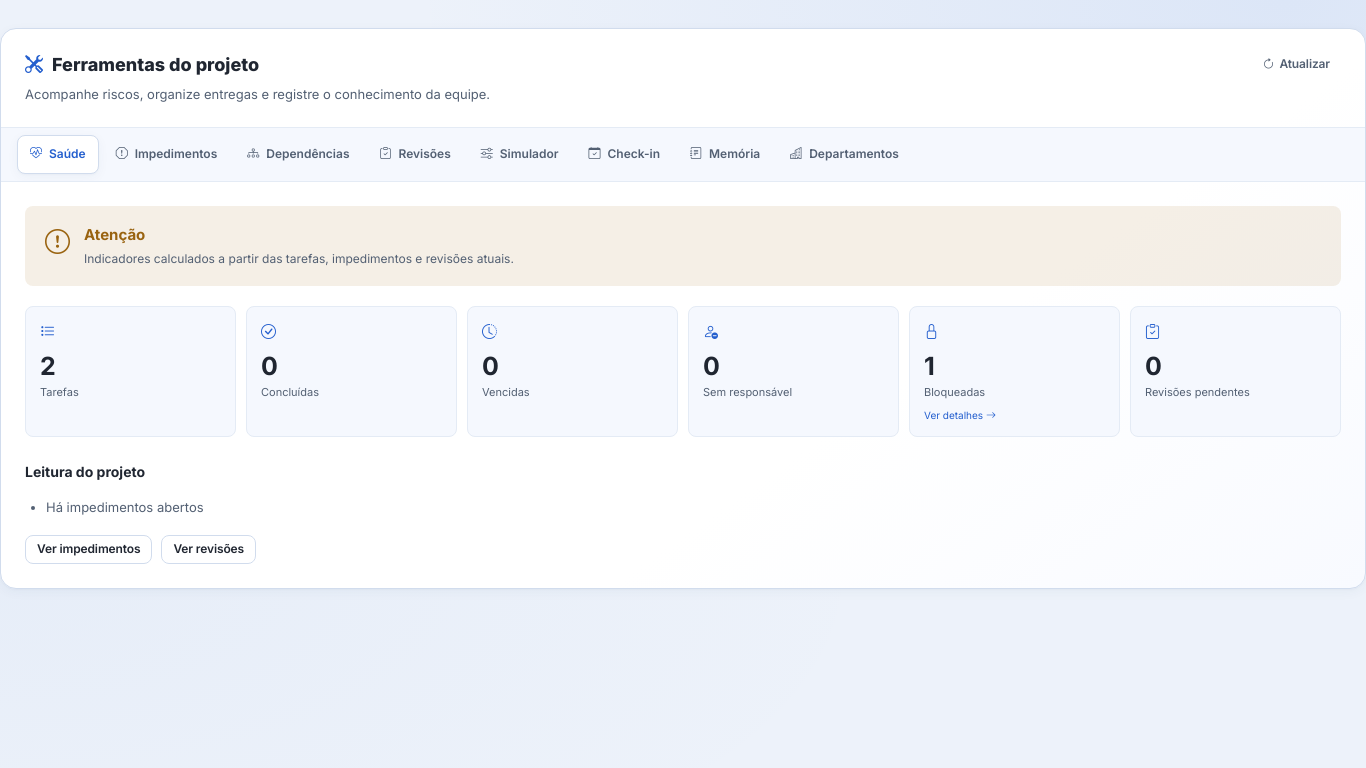
Scenario: dependência seleciona predecessora e sucessora sem oferecer a própria tarefa
Later steps or results of the test are not shown.
Click the tab "Dependências" at [298, 154], box [234, 135, 362, 174]
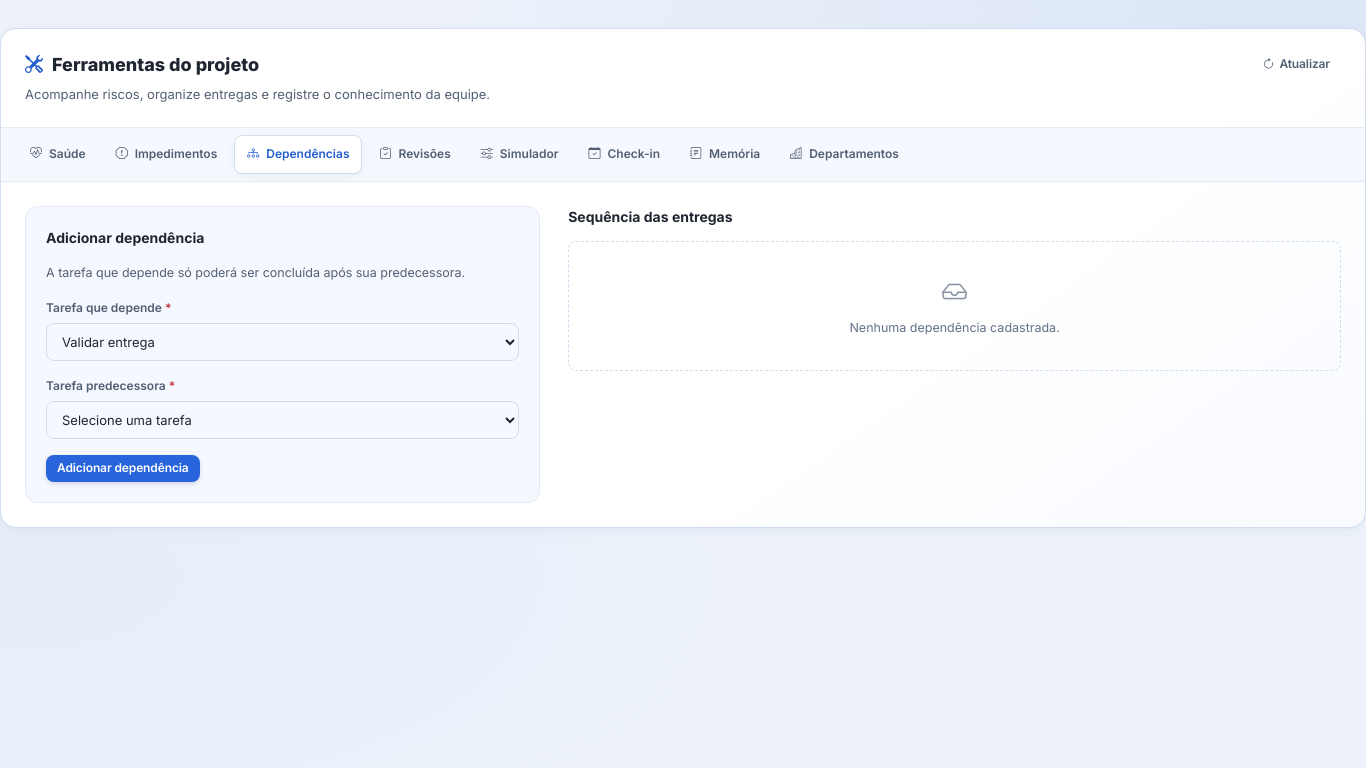
Expected: the label "Tarefa que depende *" is shown, [46, 300, 172, 315]
Select "Validar entrega" in the dropdown labelled "Tarefa que depende *" at [283, 342], box [46, 323, 519, 361]
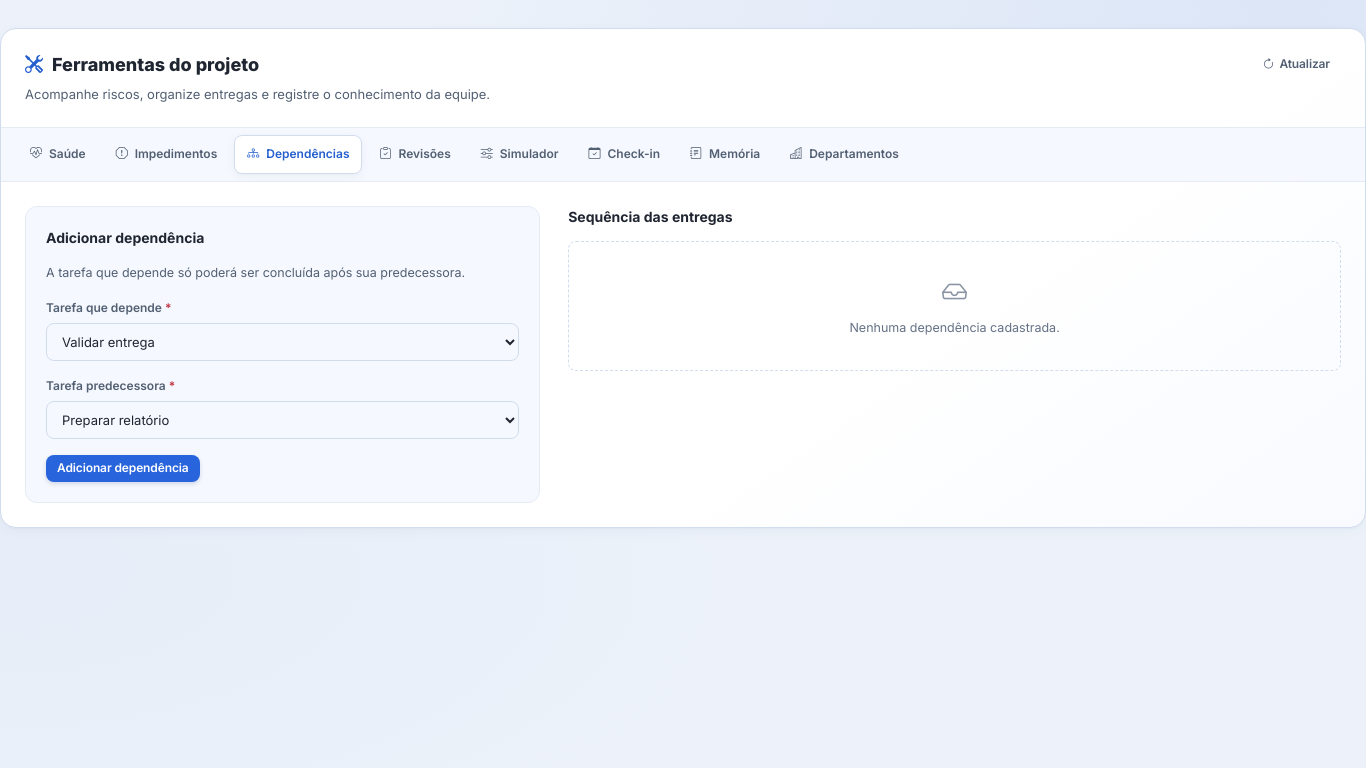
Expected: the label "Tarefa predecessora *" is shown, [46, 378, 175, 393]
